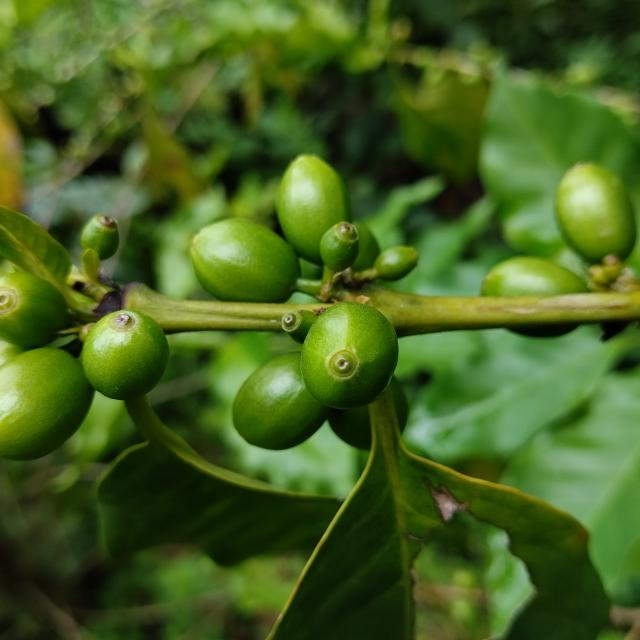green: (300, 302, 399, 409), (0, 348, 93, 461), (232, 352, 331, 451), (189, 218, 300, 302), (276, 154, 351, 264), (557, 162, 638, 263), (80, 310, 169, 401), (0, 272, 69, 348), (482, 257, 589, 296), (320, 221, 359, 272), (80, 214, 119, 260), (374, 246, 419, 281), (512, 325, 578, 337)
